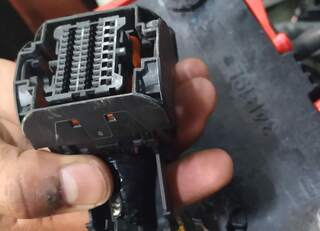connector: (13, 5, 179, 151)
